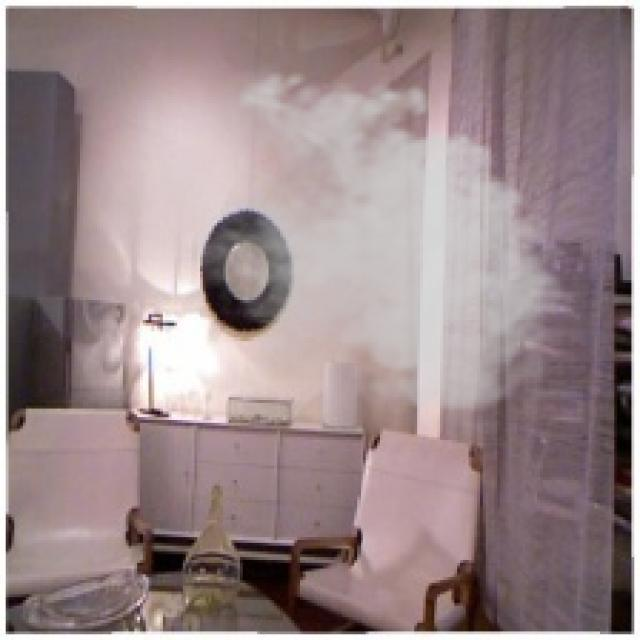Smoke: (192, 60, 577, 420)
